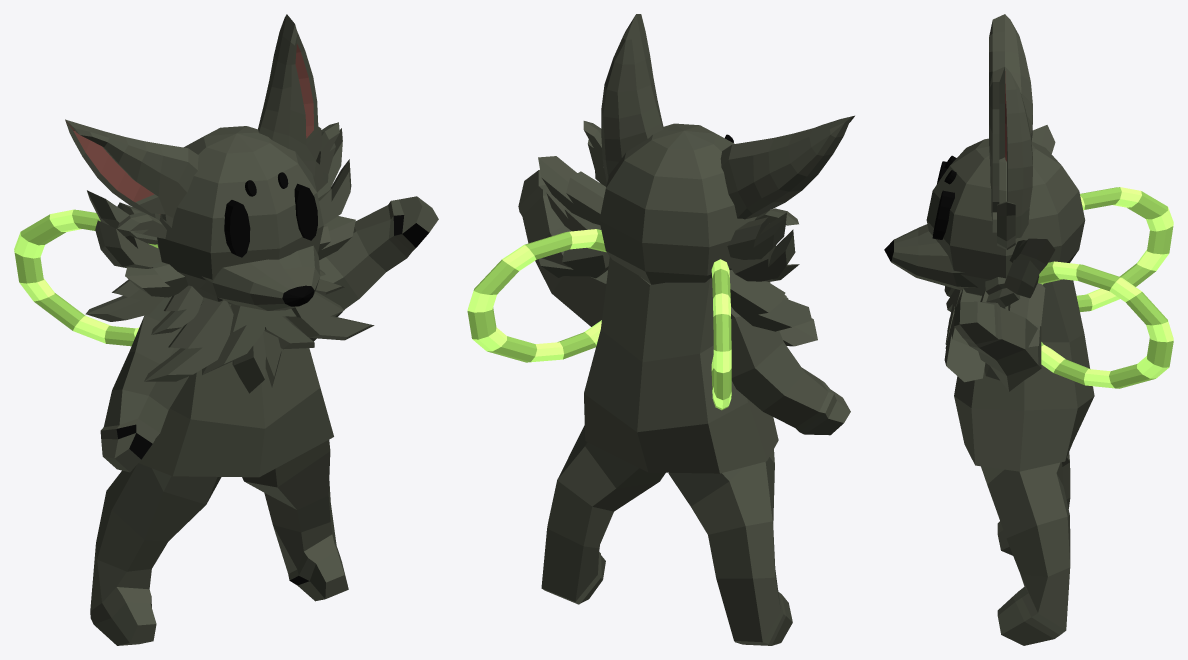
The model's file is vile.fbx.
The picture shows the model from 3 angles, left to right: view 1: azimuth 30°, elevation 25°; view 2: azimuth 150°, elevation 25°; view 3: azimuth 270°, elevation 25°; orthographic projection. The views are drawn at different scales.
Parts seen in each view (by area): view 1: Cube.004, Cube, Sphere, Vert, Cube.005, Cube.002, Vert.011, Vert.007, Torus, Cone, Vert.005, Vert.003 (+7 smaller); view 2: Cube, Cube.004, Sphere, Torus, Cube.005, Vert, Vert.011, Vert.006, Cube.002, Vert.002, Vert.003, Vert.010 (+1 smaller); view 3: Cube, Sphere, Cube.004, Torus, Vert.011, Cube.002, Cone, Vert, Vert.007, Vert.002, Vert.006, Vert.003 (+3 smaller).
Boxes of the visible parts, box(x1,y1,x2,y2) form: Cube.004: box(90, 440, 348, 645); Cube: box(139, 297, 333, 477); Sphere: box(157, 126, 323, 304); Vert: box(65, 119, 198, 238); Cube.005: box(100, 296, 188, 472); Cube.002: box(309, 196, 438, 341); Vert.011: box(258, 14, 323, 177); Vert.007: box(144, 291, 374, 381); Torus: box(14, 209, 158, 346); Cone: box(199, 245, 320, 310); Vert.005: box(202, 304, 314, 374); Vert.003: box(95, 159, 351, 268); Cube: box(584, 256, 778, 473); Cube.004: box(541, 425, 792, 645); Sphere: box(599, 123, 756, 284); Torus: box(467, 229, 731, 410); Cube.005: box(731, 306, 850, 435); Vert: box(720, 115, 854, 225); Vert.011: box(601, 14, 663, 183); Vert.006: box(538, 248, 811, 331); Cube.002: box(518, 170, 607, 326); Vert.002: box(538, 156, 786, 259); Vert.003: box(546, 187, 795, 281); Vert.010: box(583, 121, 606, 186); Cube: box(954, 279, 1094, 471); Sphere: box(926, 138, 1085, 295); Cube.004: box(981, 452, 1070, 645); Torus: box(1038, 187, 1173, 388); Vert.011: box(989, 66, 1032, 238); Cube.002: box(954, 301, 1041, 391); Cone: box(884, 224, 977, 290); Vert: box(989, 14, 1032, 140); Vert.007: box(944, 286, 985, 382); Vert.002: box(1009, 125, 1055, 272); Vert.006: box(1008, 283, 1045, 347); Vert.003: box(1003, 259, 1039, 298).
Bounding box in the file's own units: 440 × 721 × 340.
